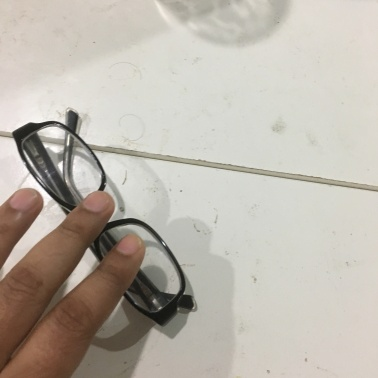glasses: (11, 118, 173, 327)
